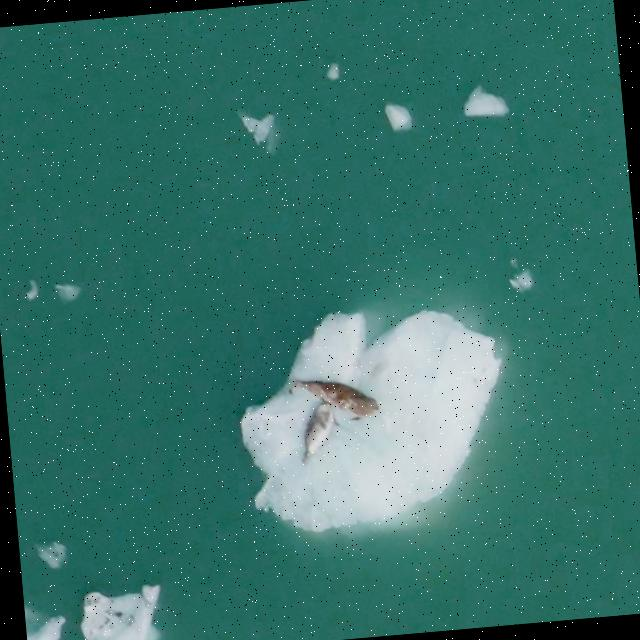seal: (287, 366, 385, 427), (293, 400, 343, 470)
